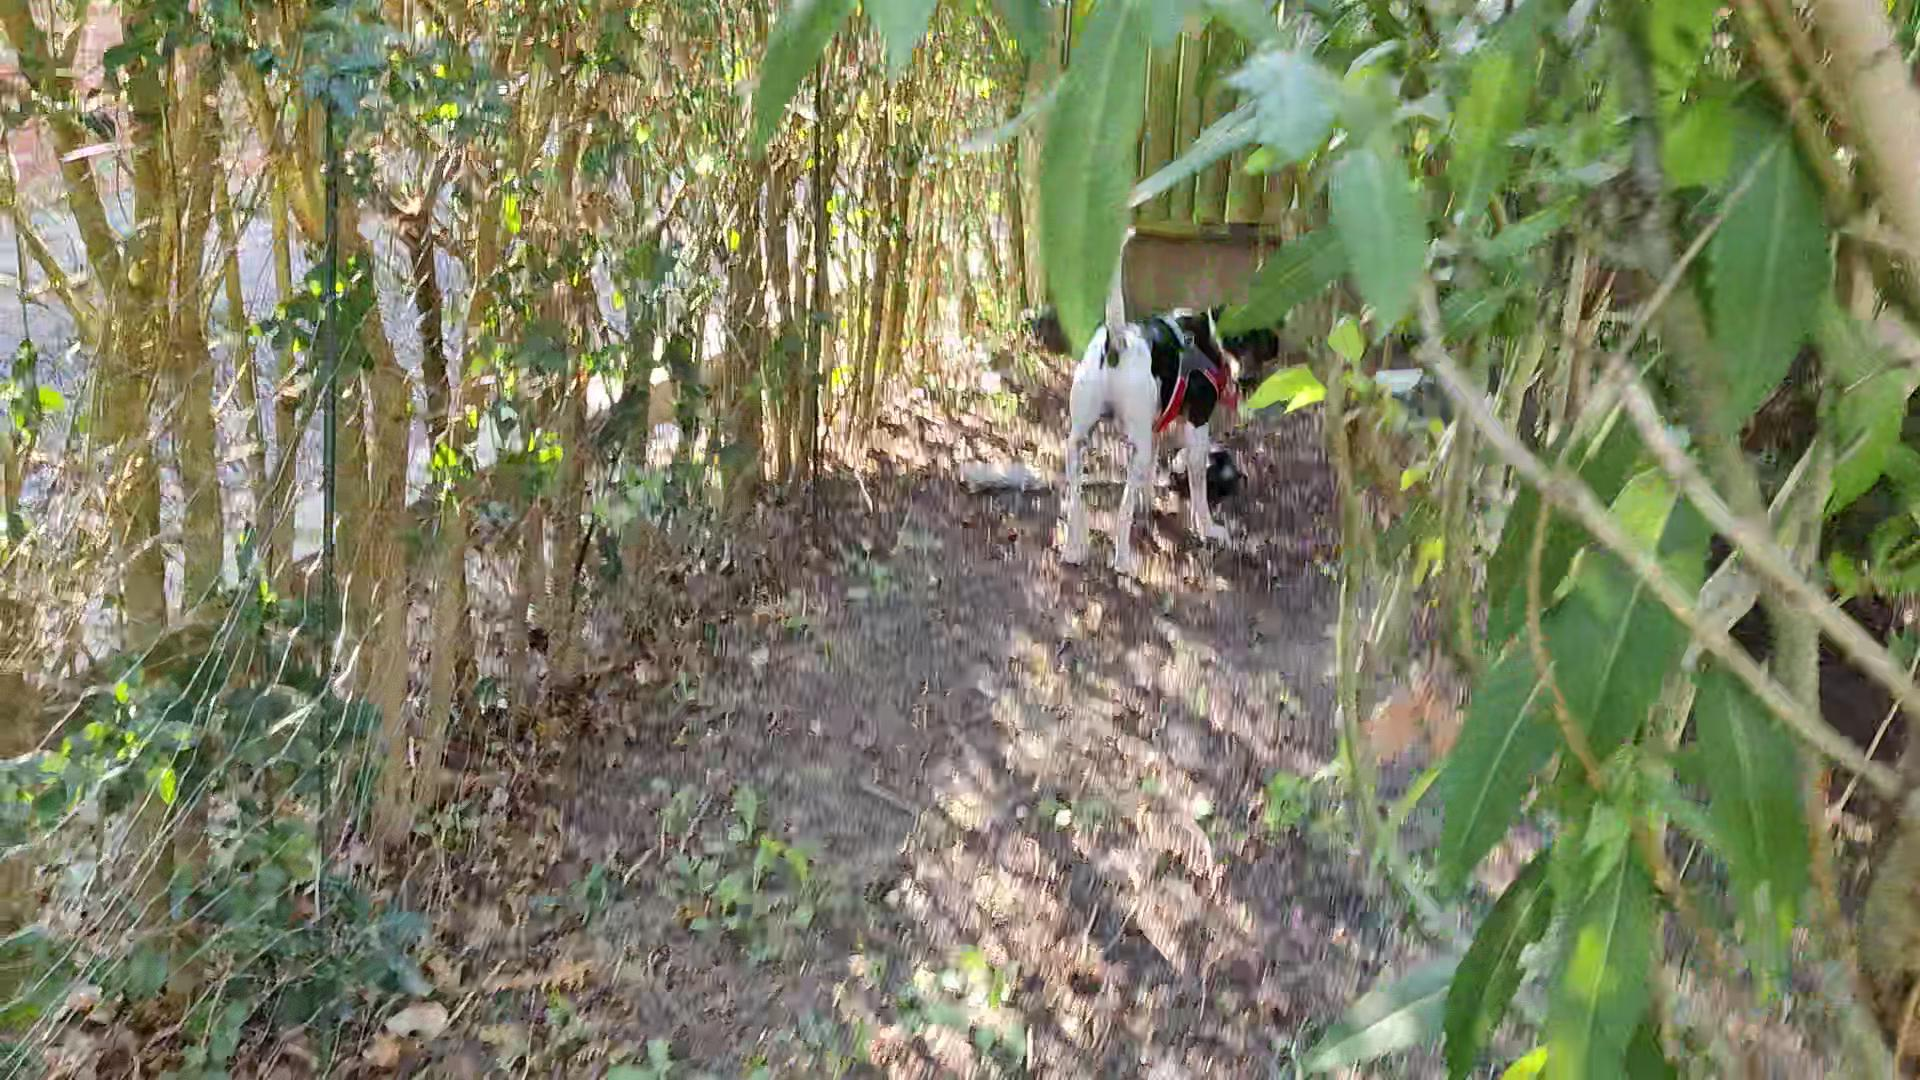Dog: (1044, 215, 1287, 583)
